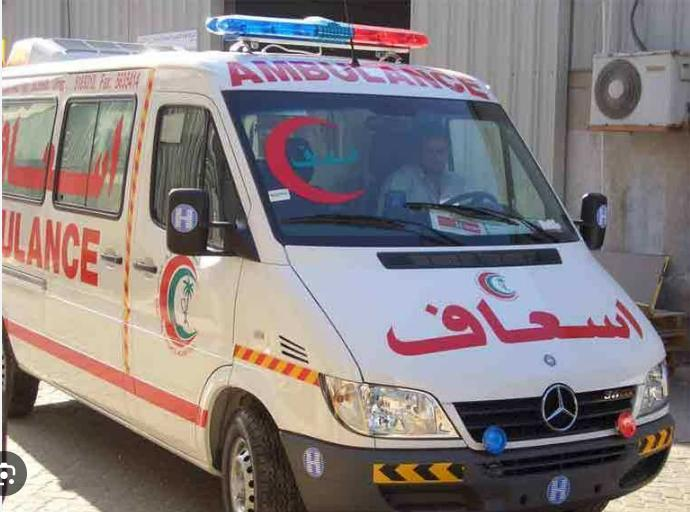ambulance_off: (0, 18, 677, 512)
